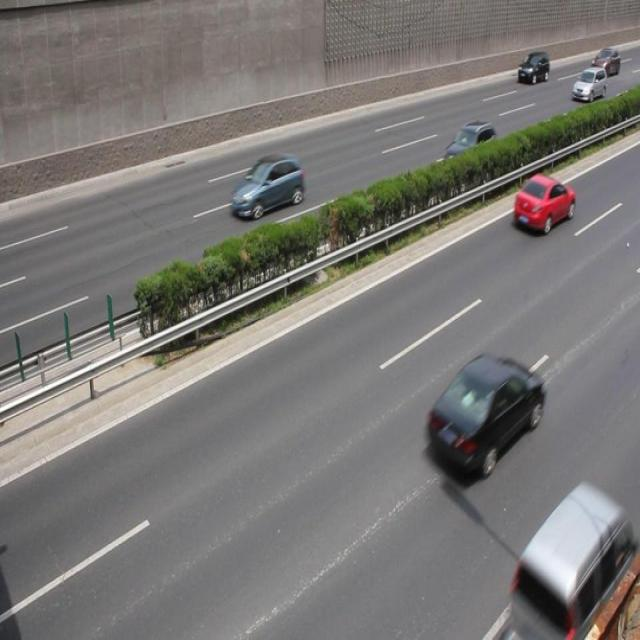car: (426, 352, 544, 478), (231, 153, 304, 222), (513, 170, 576, 233), (442, 120, 496, 184), (571, 67, 606, 104), (517, 50, 549, 86)
